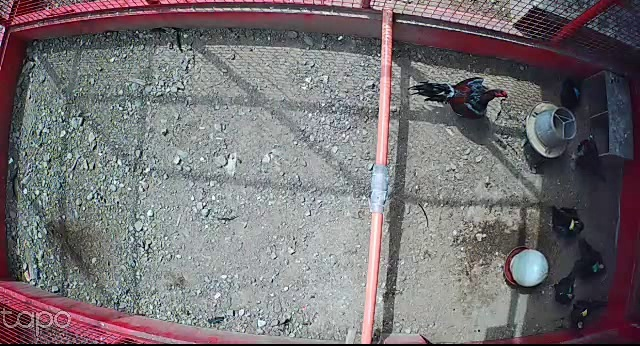Chicken: (566, 132, 612, 185), (547, 262, 581, 309), (569, 295, 603, 339), (545, 205, 585, 242), (576, 239, 608, 282)
Drinker: (503, 246, 549, 290)
Feeder: (525, 100, 578, 159)
Rooster: (410, 77, 509, 122)
Saddle_Color_Yellow: (579, 308, 588, 317)
